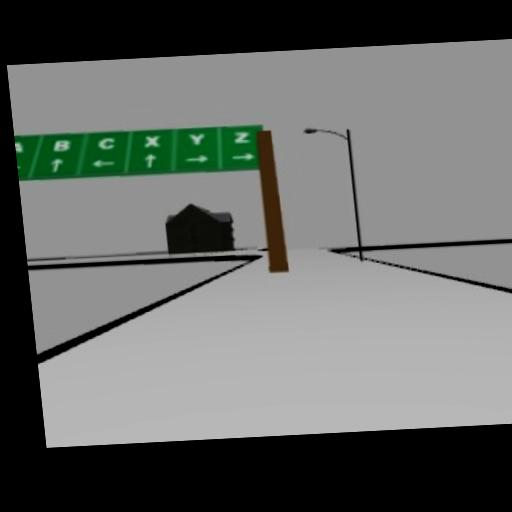A: (14, 139, 24, 150)
B: (51, 137, 71, 151)
C: (96, 134, 116, 148)
Left: (89, 157, 116, 166), (17, 163, 21, 166)
Right: (229, 152, 256, 161), (183, 152, 210, 161)
Straight: (48, 155, 64, 171), (142, 150, 156, 166)
X: (141, 132, 161, 146)
Y: (187, 132, 206, 144)
Z: (232, 129, 251, 143)
